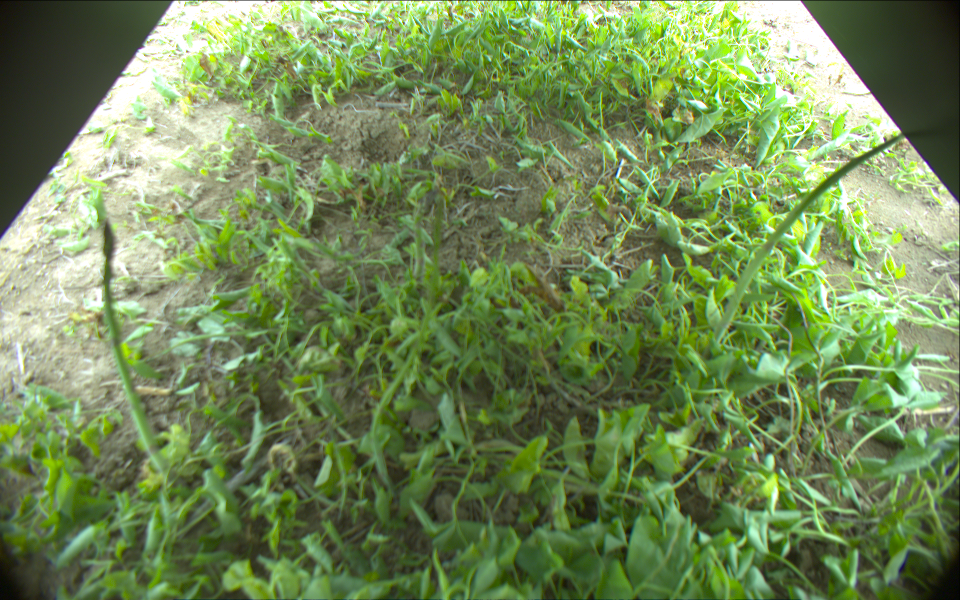aspa: (708, 130, 909, 346), (370, 190, 446, 479), (100, 218, 170, 477), (410, 203, 427, 284)
